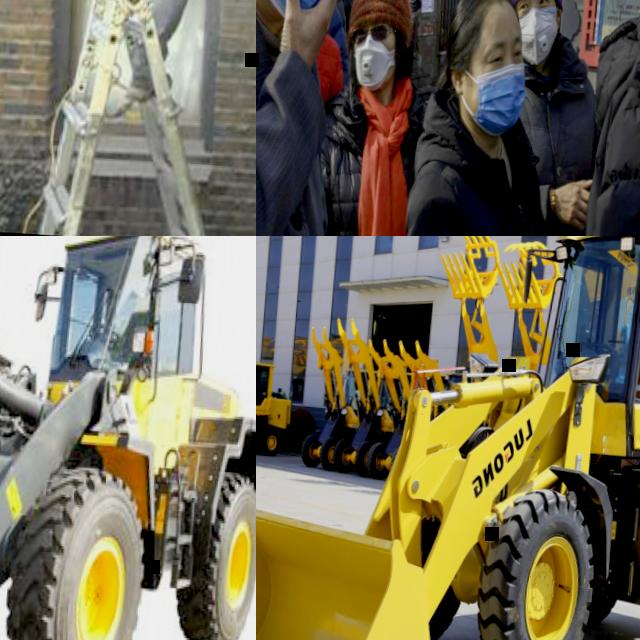Mask: (470, 61, 529, 140), (517, 4, 561, 67), (351, 36, 394, 94), (260, 0, 334, 26)
NO-Hardhat: (448, 0, 523, 51), (349, 0, 416, 33)
NO-Safety Vest: (256, 0, 363, 236), (317, 82, 439, 236), (506, 59, 595, 236), (408, 145, 564, 236), (327, 0, 355, 14)
Person: (476, 0, 612, 236), (123, 0, 256, 116)
vehicle: (256, 236, 640, 640), (0, 236, 256, 640), (326, 315, 417, 477), (363, 337, 450, 482), (299, 325, 383, 474), (394, 339, 459, 420), (256, 334, 295, 456)
